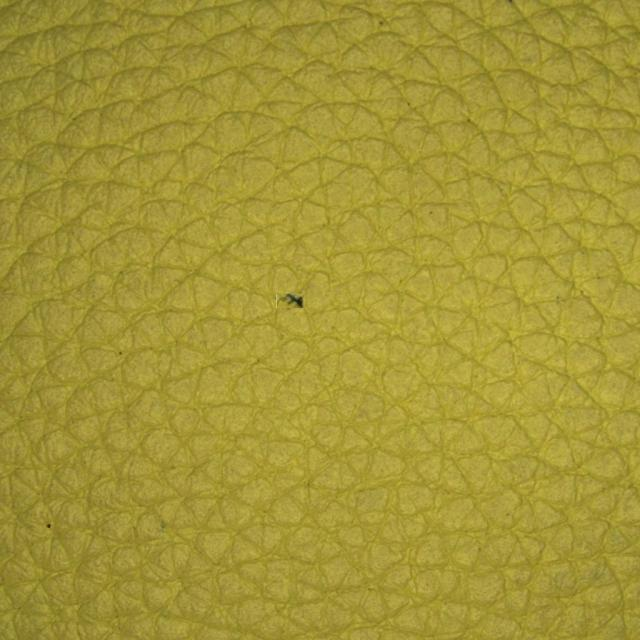Hole: (219, 221, 379, 369)
pinhole: (19, 456, 108, 594)
